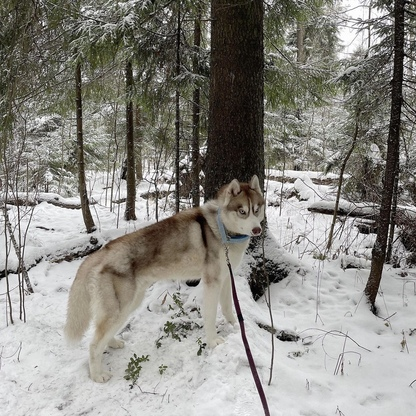husky: (60, 172, 273, 385)
